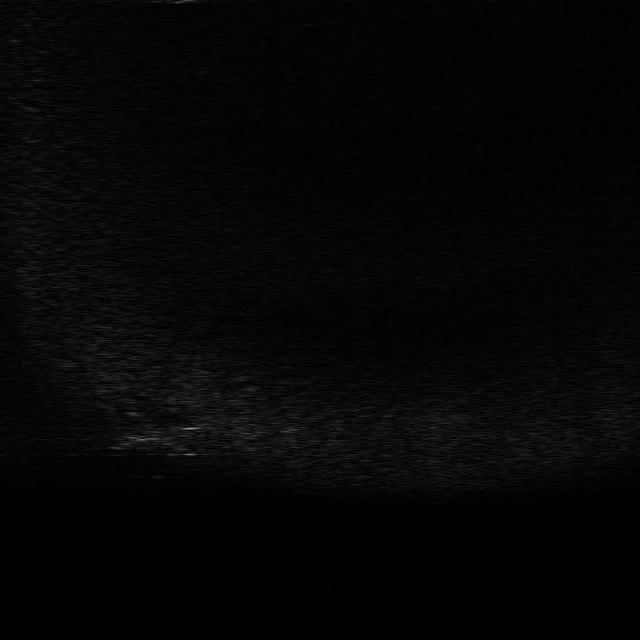plane: (110, 410, 204, 461)
